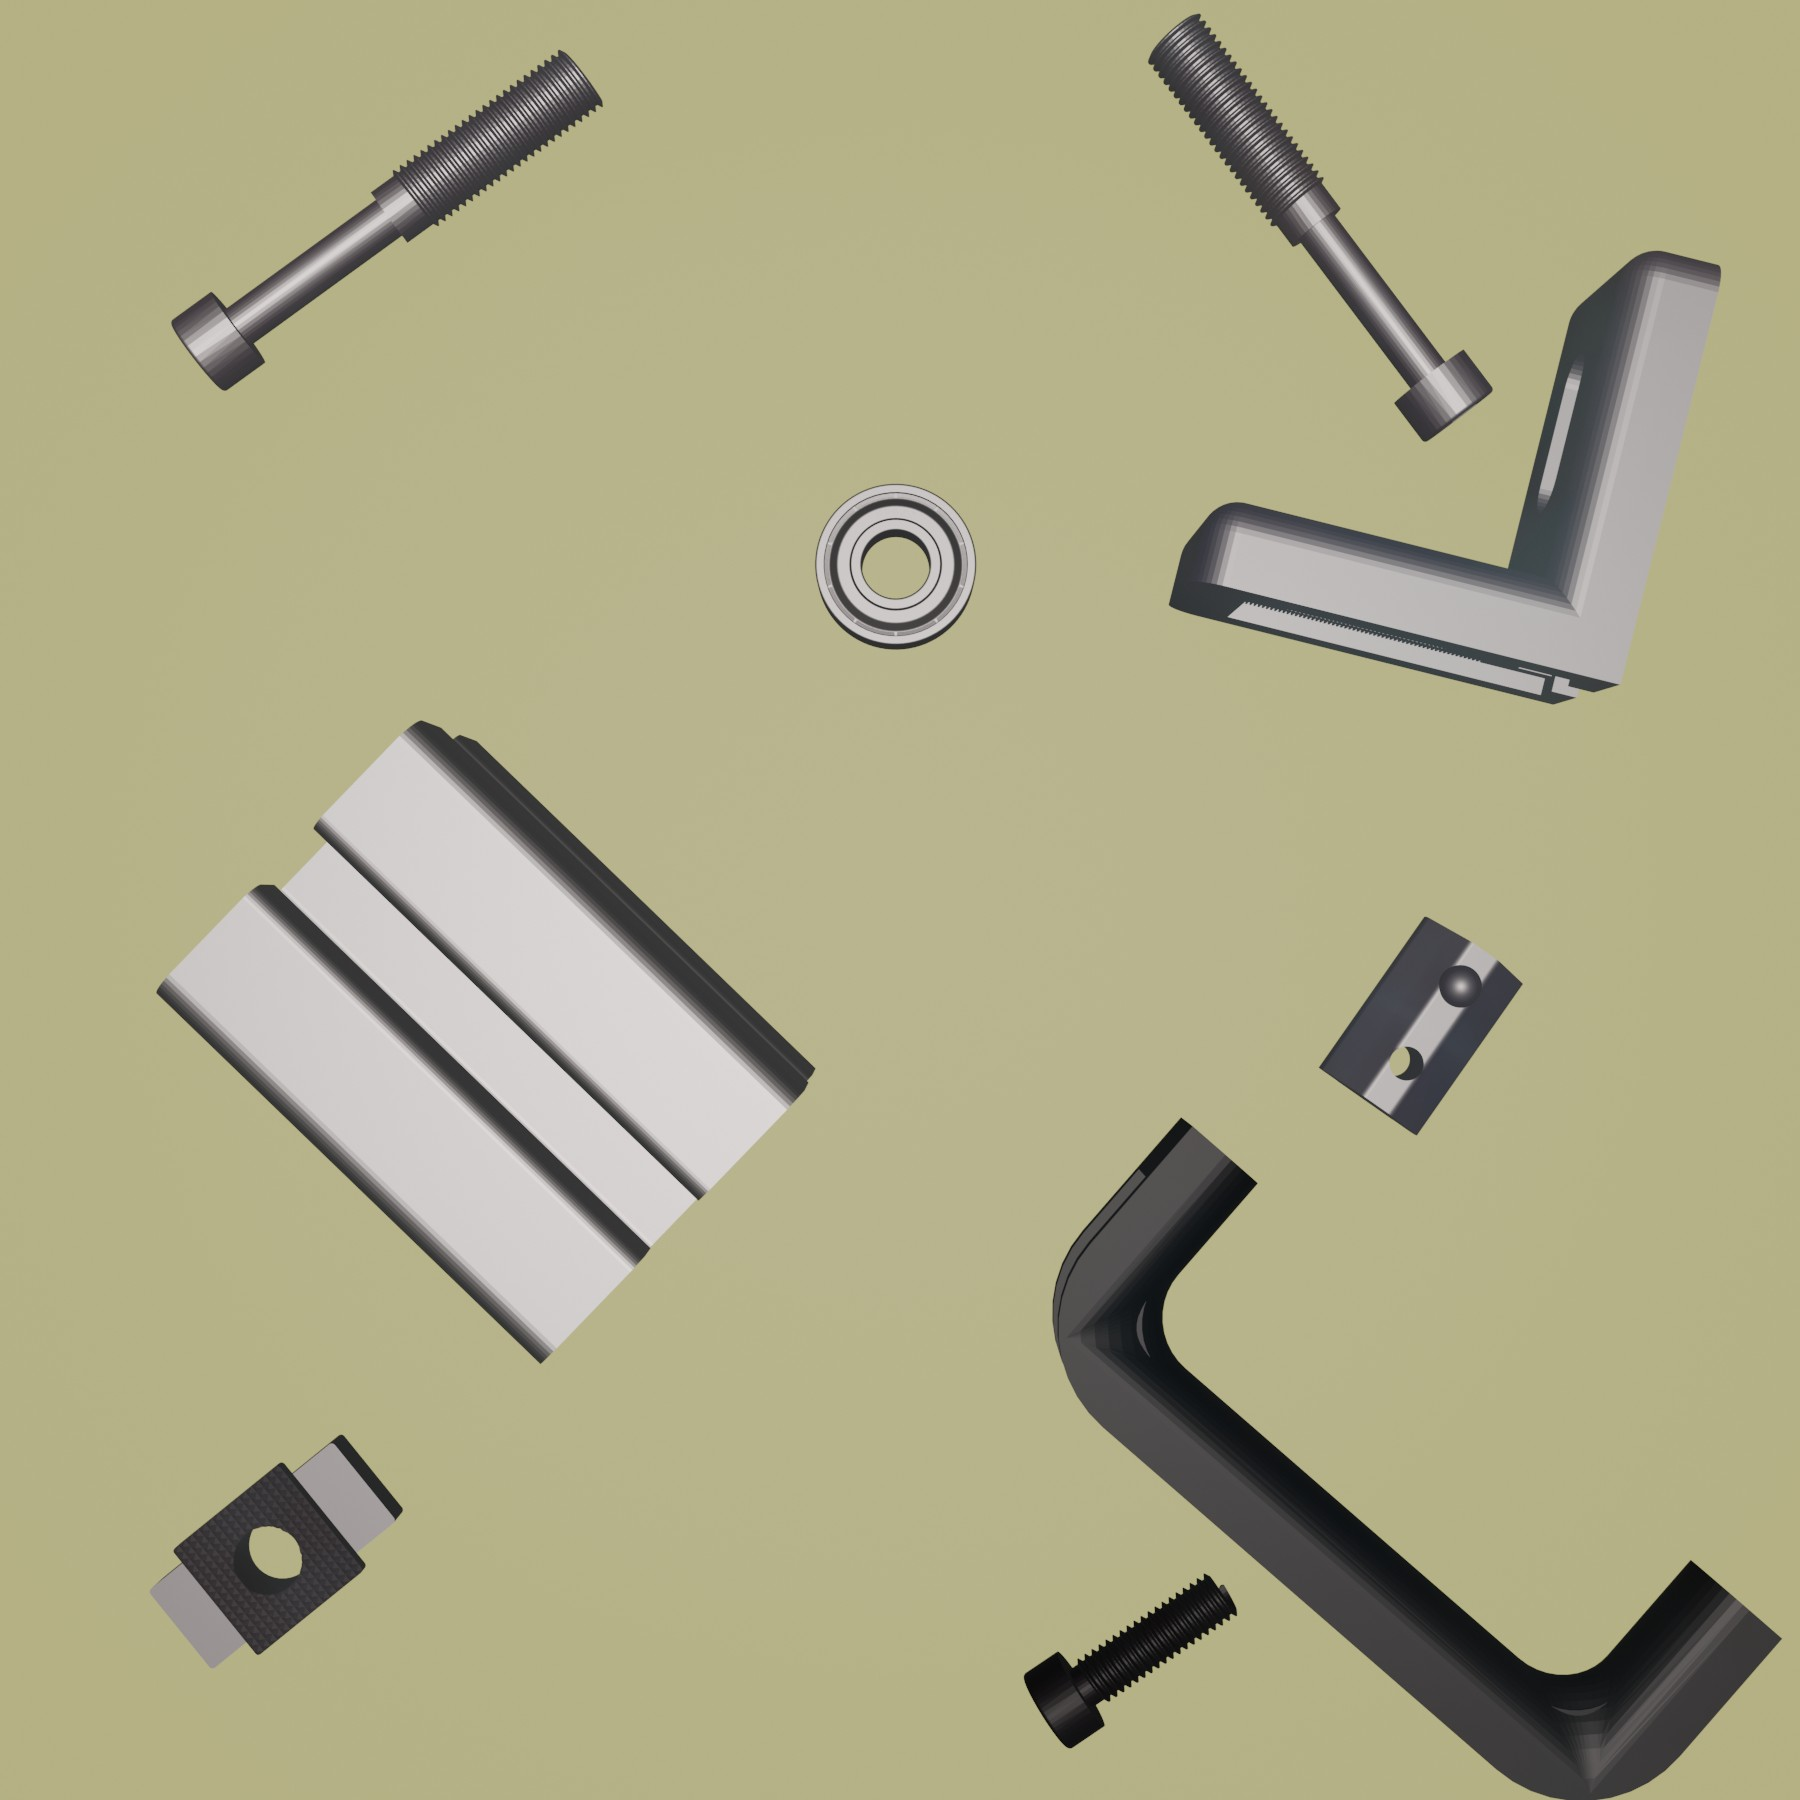Aluminium Extension: (152, 715, 816, 1366)
Ball Bearing: (813, 480, 979, 651)
Multiwinkel: (1167, 249, 1724, 709)
Pull Handle: (1050, 1116, 1784, 1800)
Shoulder Socket Head Cap Screw: (1144, 8, 1493, 445), (170, 48, 603, 396)
Socket Head Cap Screw: (1020, 1568, 1240, 1751)
T Nut Square: (147, 1432, 405, 1671)
T Spring Nut: (1317, 913, 1525, 1137)
